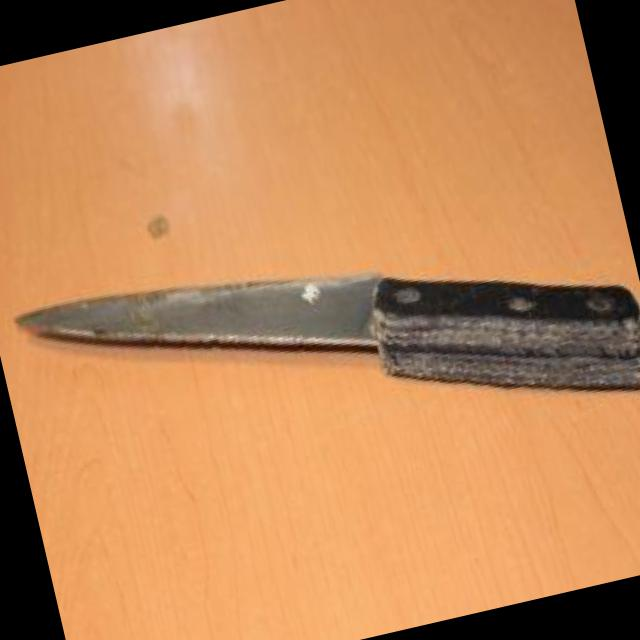knife: (2, 216, 415, 455)
